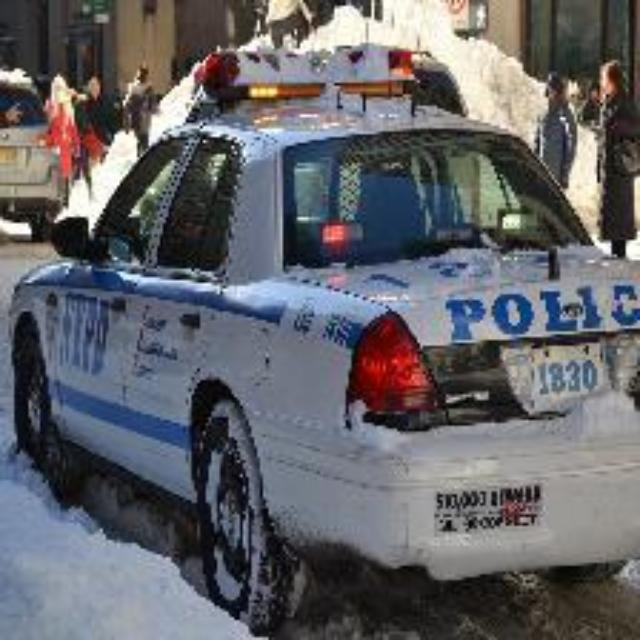emergency: (15, 48, 640, 620)
